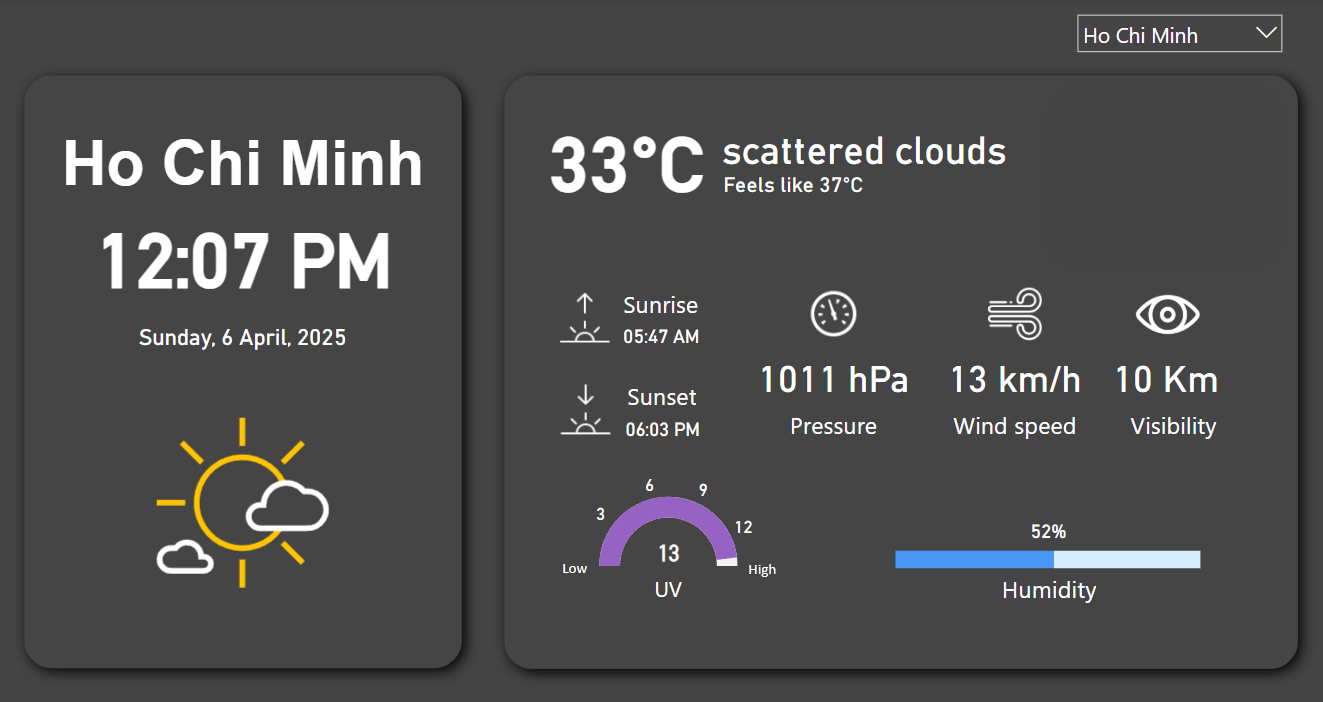

This screenshot's page, from the dashboard's own definition file:
{"tool":"powerbi","page":{"name":"Page 1","canvas":[1280,720],"ordinal":0},"visuals":[{"type":"shape","box":[469.3,71.2,802.3,609.3],"z":0},{"type":"shape","box":[539.1,551.9,37.1,27.9],"z":0,"group":"g7"},{"type":"shape","box":[11.3,71.5,458.6,608.6],"z":1000},{"type":"shape","box":[719.8,552.6,37.1,27.9],"z":1000,"group":"g7"},{"type":"slicer","fields":{"Values":["LatestWeather.city"]},"box":[1031.5,4.8,218.4,50.7],"z":2000},{"type":"card","fields":{"Values":["Min(LatestWeather.city)"]},"box":[37.8,104.3,405.7,131.4],"z":3000},{"type":"card","fields":{"Values":["Sum(LatestWeather.feels_like)"]},"box":[669.7,175.5,230.9,50.9],"z":3000,"group":"g8"},{"type":"card","fields":{"Values":["Min(LatestWeather.time)"]},"box":[75.9,205.1,329.4,106.2],"z":4000},{"type":"card","fields":{"Values":["Max(LatestWeather.temperature)"]},"box":[510,120,222.9,104.3],"z":5000},{"type":"card","fields":{"Values":["LatestWeather.WindSpeed_kph"]},"box":[899.4,352.6,165.6,53],"z":5000,"group":"g5"},{"type":"group","id":"g1","title":"Group 2","box":[565.9,285,148.8,81.2],"z":6000,"group":"g10"},{"type":"card","fields":{"Values":["Min(LatestWeather.timestamp)"]},"box":[124.8,316.1,231.6,50.7],"z":6000},{"type":"card","fields":{"Values":["Min(LatestWeather.sunrise)"]},"box":[565.9,316.2,148.8,50],"z":7000,"group":"g1"},{"type":"card","fields":{"Values":["Min(LatestWeather.sunset)"]},"box":[566.9,406,148.8,50],"z":7000,"group":"g2"},{"type":"shape","box":[957.1,561.4,115.7,47.1],"z":7000},{"type":"shape","box":[582.1,285,116.2,46.2],"z":8000,"group":"g1"},{"type":"group","id":"g2","title":"Group 2","box":[566.9,374.8,148.8,81.2],"z":8000,"group":"g9"},{"type":"shape","box":[583.1,374.8,116.2,46.2],"z":8000,"group":"g2"},{"type":"shape","box":[589.9,561,115.8,47.1],"z":8000},{"type":"group","id":"g3","title":"Group 5","box":[539.1,470.5,217.1,110],"z":9000},{"type":"gauge","fields":{"Y":["Max(LatestWeather.uv)"]},"box":[576.2,482.6,143.6,94.3],"z":9000,"group":"g3"},{"type":"image","box":[515,293.8,102.5,57.5],"z":10000,"group":"g10"},{"type":"image","box":[515,382.3,103.8,58.8],"z":10000,"group":"g9"},{"type":"shape","box":[568.4,498.4,29.3,27.9],"z":10000,"group":"g3"},{"type":"card","fields":{"Values":["LatestWeather.Humidity_Percent"]},"box":[940,511.4,150,37.1],"z":10000},{"type":"shape","box":[615.5,470.5,29.3,27.9],"z":11000,"group":"g3"},{"type":"hundredPercentStackedBarChart","fields":{"Y":["LatestWeather.Humidity_Percent","LatestWeather.100"]},"box":[862.4,512.9,304.3,81.4],"z":11000},{"type":"group","id":"g4","title":"Group 8","box":[1033.3,284.5,203.9,163.3],"z":12000},{"type":"shape","box":[667,475.5,29.3,27.9],"z":12000,"group":"g3"},{"type":"group","id":"g5","title":"Group 9","box":[899.4,277.5,165.6,170.3],"z":13000},{"type":"shape","box":[705.5,511.9,29.3,27.9],"z":13000,"group":"g3"},{"type":"group","id":"g6","title":"Group 10","box":[735.4,277.2,165.6,170.8],"z":14000},{"type":"image","box":[951.3,277.5,61.8,84.1],"z":14000,"group":"g5"},{"type":"group","id":"g7","title":"Group 4","box":[539.1,551.9,217.9,28.6],"z":14000,"group":"g3"},{"type":"shape","box":[918.9,404.4,126.7,43.4],"z":15000,"group":"g5"},{"type":"group","id":"g8","title":"Group 1","box":[669.7,137.5,319.4,88.9],"z":16000},{"type":"image","box":[787.2,277.2,62.1,84.6],"z":16000,"group":"g6"},{"type":"group","id":"g9","title":"Group 3","box":[515,374.8,200.6,81.2],"z":17000},{"type":"shape","box":[774.3,404,87.8,44],"z":17000,"group":"g6"},{"type":"group","id":"g10","title":"Group 11","box":[515,285,199.7,81.2],"z":18000},{"type":"card","fields":{"Values":["Sum(LatestWeather.pressure)"]},"box":[735.4,352,165.6,54.1],"z":18000,"group":"g6"},{"type":"shape","box":[712.9,137.5,276.2,58.8],"z":19000,"group":"g8"},{"type":"image","box":[1087.1,284.5,97.7,71.2],"z":19000,"group":"g4"},{"type":"card","fields":{"Values":["Sum(LatestWeather.precipitation)"]},"box":[1024.2,156.4,222,53.1],"z":20000,"group":"g11"},{"type":"card","fields":{"Values":["LatestWeather.Visibility_km"]},"box":[1033.3,352,203.9,54.3],"z":20000,"group":"g4"},{"type":"image","box":[1096.6,95.3,77.1,74.3],"z":21000,"group":"g11"},{"type":"shape","box":[1079.1,404.3,126.7,43.4],"z":21000,"group":"g4"},{"type":"shape","box":[1071.6,215.6,127.1,42.9],"z":23000,"group":"g11"},{"type":"group","id":"g11","title":"Group 6","box":[1024.2,95.3,222,163.2],"z":23001},{"type":"shape","box":[1024.3,97.7,212.3,167.7],"z":23502},{"type":"imageDB603108E3FF4EBFB8047F5653368E8C","fields":{"imageUrl":["LatestWeather.WeatherIconURL"]},"box":[152.6,415,176.1,173.7],"z":23503}]}

Visuals, with their boxes on the page's 1280x720 design canvas (x1, y1, x2, y2). These are canvas units, not pixel positions in the 1323x702 screenshot, which may show the page scaled, cropped or inside an application window:
shape: (469,71,1272,680)
shape: (539,552,576,580)
shape: (11,72,470,680)
shape: (720,553,757,580)
slicer - LatestWeather.city: (1032,5,1250,56)
card - Min(LatestWeather.city): (38,104,444,236)
card - Sum(LatestWeather.feels_like): (670,176,901,226)
card - Min(LatestWeather.time): (76,205,405,311)
card - Max(LatestWeather.temperature): (510,120,733,224)
card - LatestWeather.WindSpeed_kph: (899,353,1065,406)
"Group 2" group: (566,285,715,366)
card - Min(LatestWeather.timestamp): (125,316,356,367)
card - Min(LatestWeather.sunrise): (566,316,715,366)
card - Min(LatestWeather.sunset): (567,406,716,456)
shape: (957,561,1073,608)
shape: (582,285,698,331)
"Group 2" group: (567,375,716,456)
shape: (583,375,699,421)
shape: (590,561,706,608)
"Group 5" group: (539,470,756,580)
gauge - Max(LatestWeather.uv): (576,483,720,577)
image: (515,294,618,351)
image: (515,382,619,441)
shape: (568,498,598,526)
card - LatestWeather.Humidity_Percent: (940,511,1090,548)
shape: (616,470,645,498)
hundredPercentStackedBarChart - LatestWeather.Humidity_Percent x LatestWeather.100: (862,513,1167,594)
"Group 8" group: (1033,284,1237,448)
shape: (667,476,696,503)
"Group 9" group: (899,278,1065,448)
shape: (706,512,735,540)
"Group 10" group: (735,277,901,448)
image: (951,278,1013,362)
"Group 4" group: (539,552,757,580)
shape: (919,404,1046,448)
"Group 1" group: (670,138,989,226)
image: (787,277,849,362)
"Group 3" group: (515,375,716,456)
shape: (774,404,862,448)
"Group 11" group: (515,285,715,366)
card - Sum(LatestWeather.pressure): (735,352,901,406)
shape: (713,138,989,196)
image: (1087,284,1185,356)
card - Sum(LatestWeather.precipitation): (1024,156,1246,210)
card - LatestWeather.Visibility_km: (1033,352,1237,406)
image: (1097,95,1174,170)
shape: (1079,404,1206,448)
shape: (1072,216,1199,258)
"Group 6" group: (1024,95,1246,258)
shape: (1024,98,1237,265)
imageDB603108E3FF4EBFB8047F5653368E8C - LatestWeather.WeatherIconURL: (153,415,329,589)
